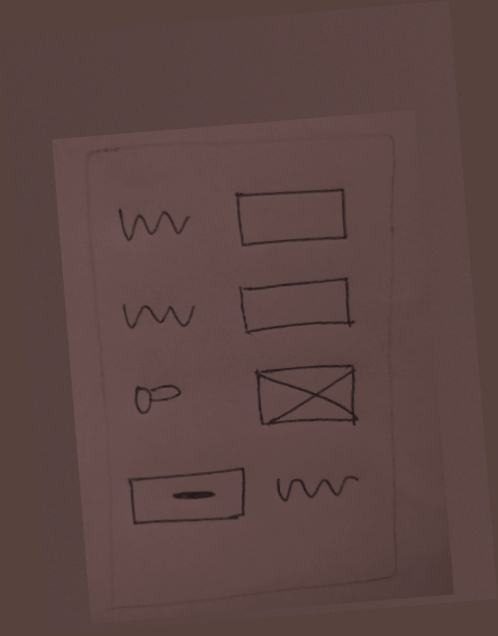button: (121, 461, 253, 535)
image: (242, 351, 370, 433)
switch: (128, 372, 191, 423)
text: (271, 464, 370, 517), (110, 198, 198, 251), (117, 289, 202, 340)
text_input: (227, 179, 356, 261), (236, 268, 358, 344)
